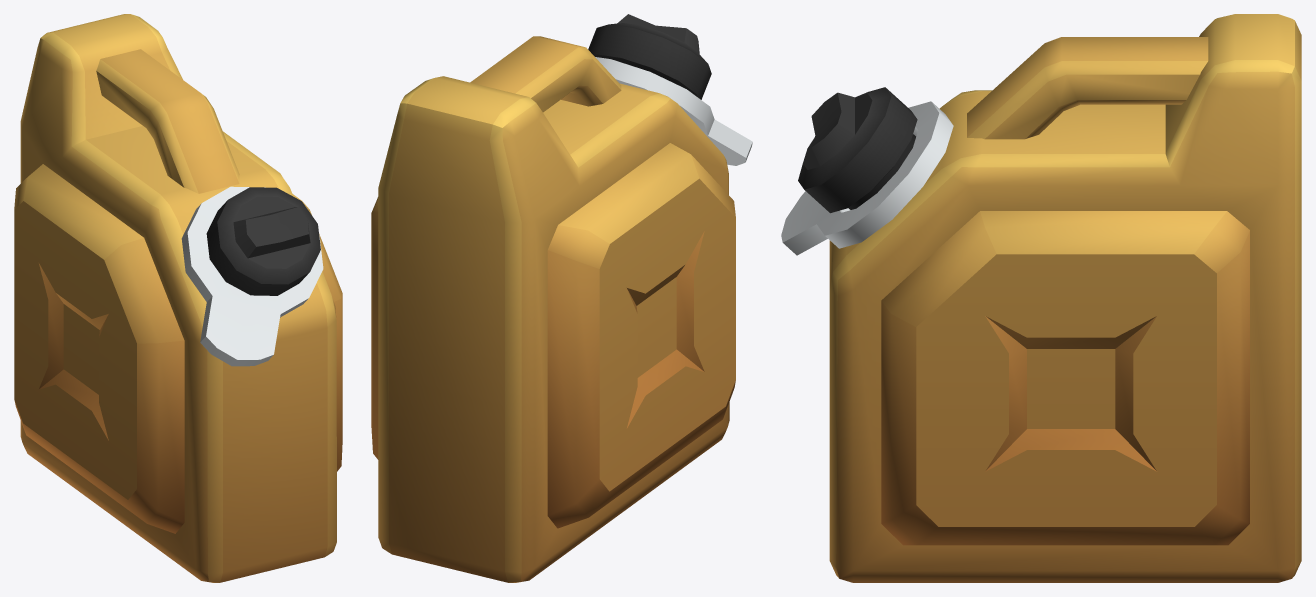
Rendered from Fuel_B_Jerrycan.glb.
3 renders of one model, left to right at view 1: azimuth 30°, elevation 25°; view 2: azimuth 150°, elevation 25°; view 3: azimuth 270°, elevation 25°, orthographic. The views are drawn at different scales.
Visible parts, largest first — view 1: Fuel_B_Jerrycan; view 2: Fuel_B_Jerrycan; view 3: Fuel_B_Jerrycan.
Boxes of the visible parts, bbox=[...] form: Fuel_B_Jerrycan: bbox=[14, 14, 342, 582]; Fuel_B_Jerrycan: bbox=[371, 14, 752, 582]; Fuel_B_Jerrycan: bbox=[781, 14, 1301, 582].
Bounding box in the file's own units: 0.4 × 0.78 × 0.7165.
Materials: 1 (1 with a texture image).
